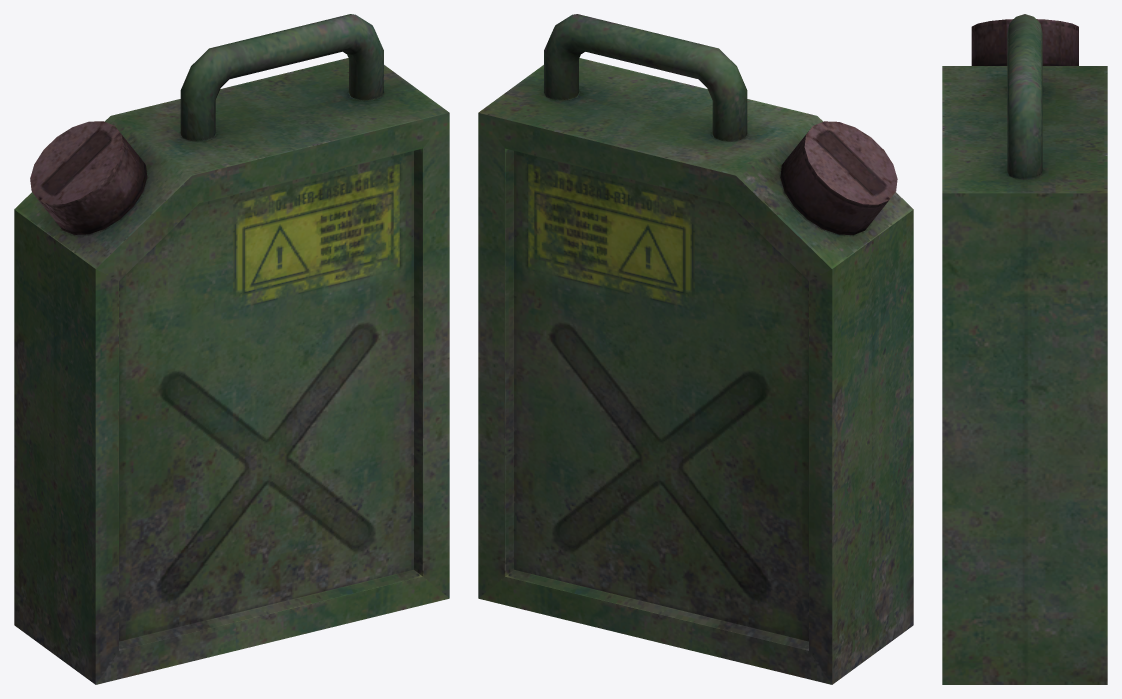
The model's file is canister_grease_indoor.DAE.
3 renders of one model, left to right at view 1: azimuth 30°, elevation 25°; view 2: azimuth 150°, elevation 25°; view 3: azimuth 270°, elevation 25°, orthographic.
Parts seen in each view (by area): view 1: canister_grease_indoor; view 2: canister_grease_indoor; view 3: canister_grease_indoor.
Boxes of the visible parts, box(x1,y1,x2,y2) form: canister_grease_indoor: box(14, 14, 449, 684); canister_grease_indoor: box(478, 14, 913, 684); canister_grease_indoor: box(942, 14, 1107, 684).
Size of the model in its own units: 21 by 30.72 by 8.02.
